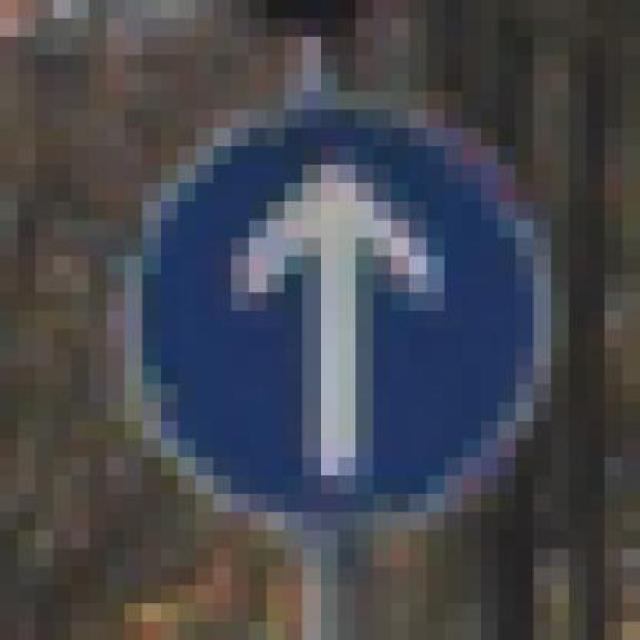Straight Ahead Only: (107, 55, 587, 567)
